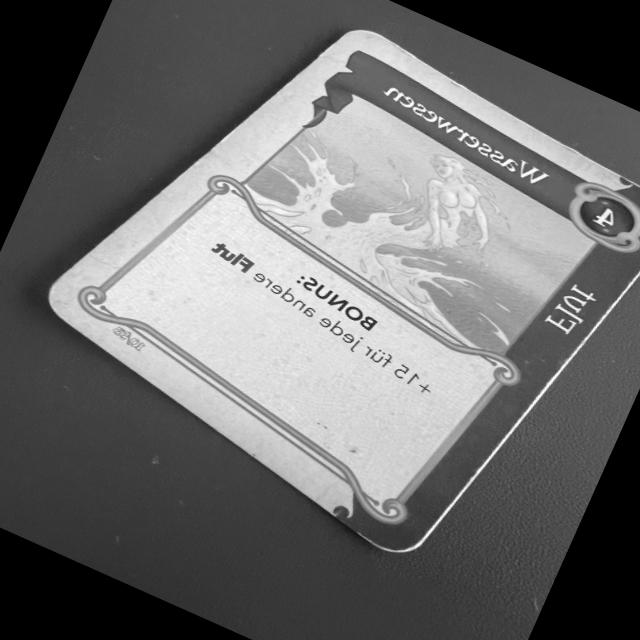Water Elemental: (22, 13, 640, 573)
